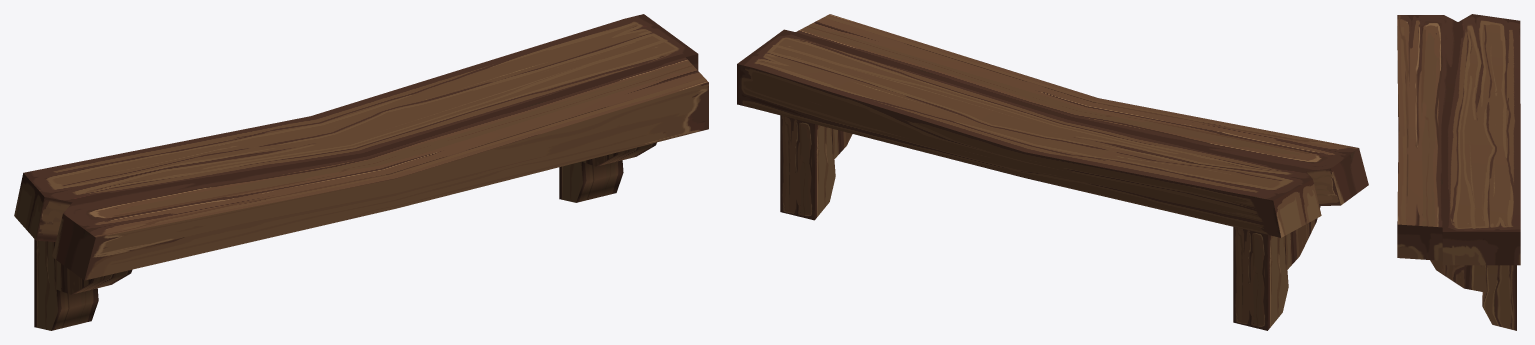
The model's file is SM_PROP_shelf_interior_02.fbx.
3 views of the same model, side by side, from view 1: azimuth 30°, elevation 25°; view 2: azimuth 150°, elevation 25°; view 3: azimuth 270°, elevation 25° (orthographic). The views are drawn at different scales.
Visible parts, largest first — view 1: SM_PROP_shelf_interior_02; view 2: SM_PROP_shelf_interior_02; view 3: SM_PROP_shelf_interior_02.
Part boxes in pixels (x1=…): SM_PROP_shelf_interior_02: x1=14, y1=14, x2=708, y2=330; SM_PROP_shelf_interior_02: x1=737, y1=14, x2=1368, y2=330; SM_PROP_shelf_interior_02: x1=1397, y1=14, x2=1520, y2=330.
Size of the model in its own units: 151 by 36.05 by 34.84.
